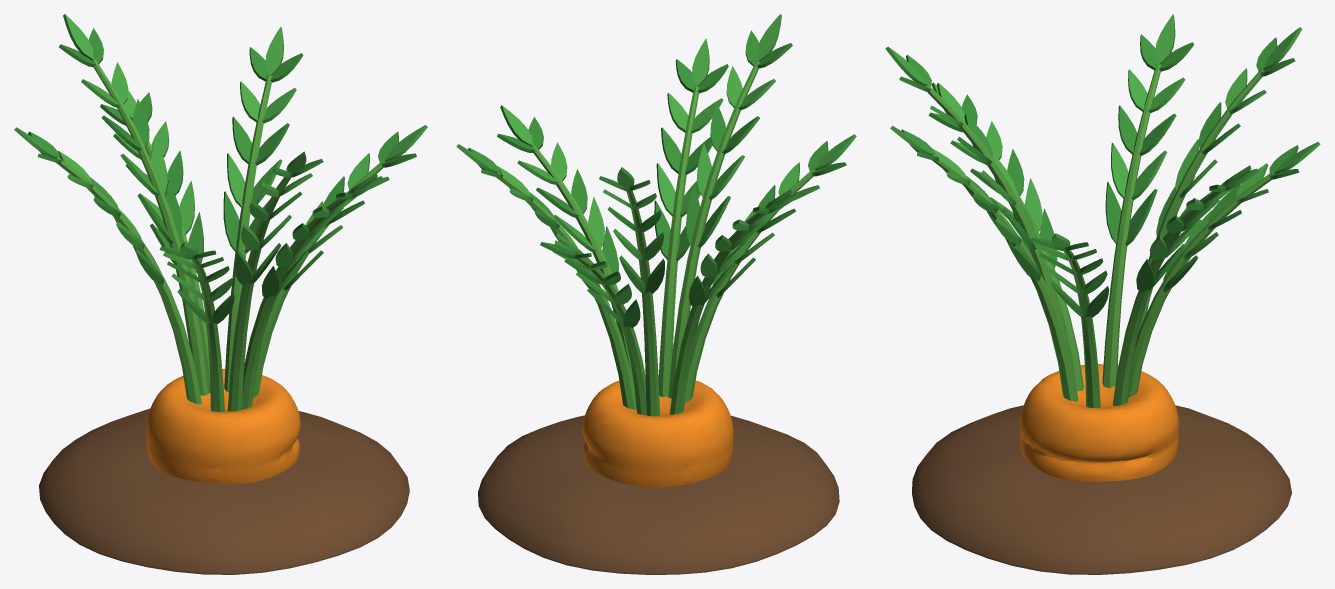
The picture shows the model from 3 angles, left to right: view 1: azimuth 30°, elevation 25°; view 2: azimuth 150°, elevation 25°; view 3: azimuth 270°, elevation 25°; orthographic projection. The views are drawn at different scales.
Parts seen in each view (by area): view 1: body; view 2: body; view 3: body.
Boxes of the visible parts, x1,y1,x2,y2 form: body: (14,14,427,574); body: (456,14,856,574); body: (885,14,1320,574).
Size of the model in its own units: 0.2888 by 0.3295 by 0.2979.
Materials: 1 (1 with a texture image).
